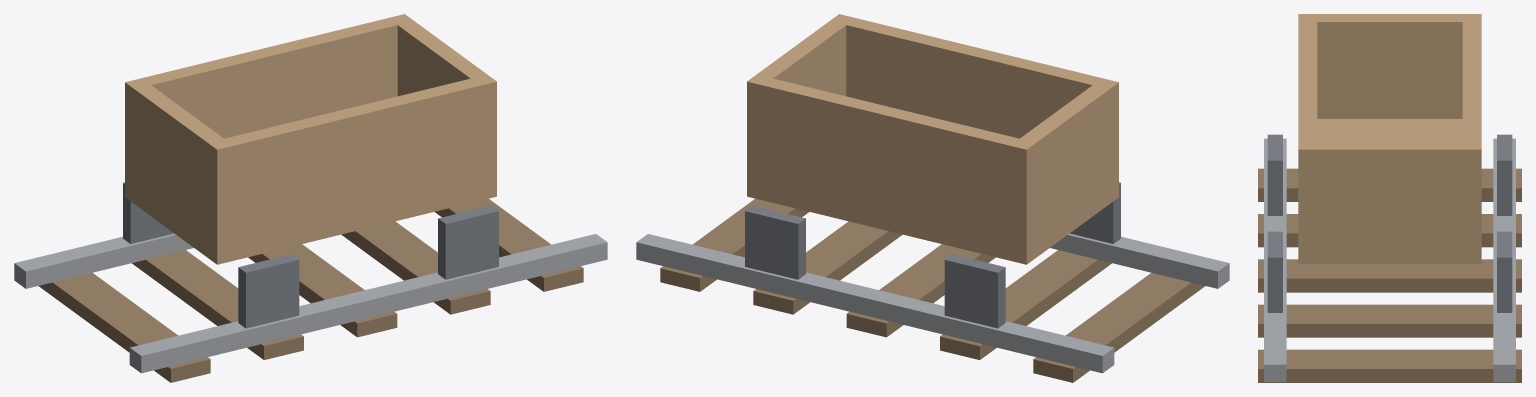
File: 35-Mineria_carrito_vias.glb
3 renders of one model, left to right at view 1: azimuth 30°, elevation 25°; view 2: azimuth 150°, elevation 25°; view 3: azimuth 270°, elevation 25°, orthographic.
Parts seen in each view (by area): view 1: SM_Carrito_Batea_NOFUNDIR, SM_Carrito_Traviesas_NOFUNDIR, SM_Carrito_Rieles_NOFUNDIR, SM_Carrito_Ruedas_NOFUNDIR; view 2: SM_Carrito_Batea_NOFUNDIR, SM_Carrito_Traviesas_NOFUNDIR, SM_Carrito_Rieles_NOFUNDIR, SM_Carrito_Ruedas_NOFUNDIR; view 3: SM_Carrito_Batea_NOFUNDIR, SM_Carrito_Traviesas_NOFUNDIR, SM_Carrito_Rieles_NOFUNDIR, SM_Carrito_Ruedas_NOFUNDIR.
Boxes of the visible parts, box(x1,y1,x2,y2) form: SM_Carrito_Batea_NOFUNDIR: box(125, 14, 496, 264); SM_Carrito_Traviesas_NOFUNDIR: box(39, 198, 583, 382); SM_Carrito_Rieles_NOFUNDIR: box(14, 233, 607, 373); SM_Carrito_Ruedas_NOFUNDIR: box(123, 182, 498, 328); SM_Carrito_Batea_NOFUNDIR: box(747, 14, 1118, 264); SM_Carrito_Traviesas_NOFUNDIR: box(660, 198, 1204, 382); SM_Carrito_Rieles_NOFUNDIR: box(636, 233, 1229, 373); SM_Carrito_Ruedas_NOFUNDIR: box(745, 182, 1120, 328); SM_Carrito_Batea_NOFUNDIR: box(1298, 14, 1481, 263); SM_Carrito_Traviesas_NOFUNDIR: box(1258, 168, 1521, 382); SM_Carrito_Rieles_NOFUNDIR: box(1264, 138, 1515, 381); SM_Carrito_Ruedas_NOFUNDIR: box(1267, 134, 1512, 312).
Bounding box in the file's own units: 1.4 × 0.58 × 0.69.
